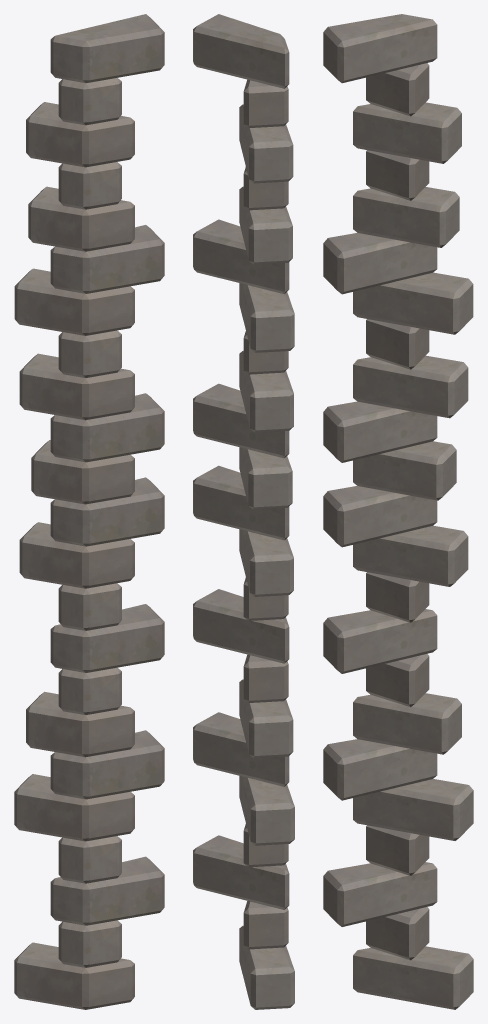
Rendered from SM_Corner_Small_Tower_L.fbx.
3 views of the same model, side by side, from view 1: azimuth 90°, elevation 25°; view 2: azimuth 210°, elevation 25°; view 3: azimuth 270°, elevation 25° (orthographic). The views are drawn at different scales.
Visible parts, largest first — view 1: SM_Corner_Small_Tower_L_LOD0; view 2: SM_Corner_Small_Tower_L_LOD0; view 3: SM_Corner_Small_Tower_L_LOD0.
Boxes of the visible parts, x1,y1,x2,y2 form: SM_Corner_Small_Tower_L_LOD0: (14, 14, 164, 1009); SM_Corner_Small_Tower_L_LOD0: (193, 14, 294, 1009); SM_Corner_Small_Tower_L_LOD0: (323, 14, 473, 1009).
Size of the model in its own units: 78.45 by 161 by 1150.
1 material, 1 textured.
